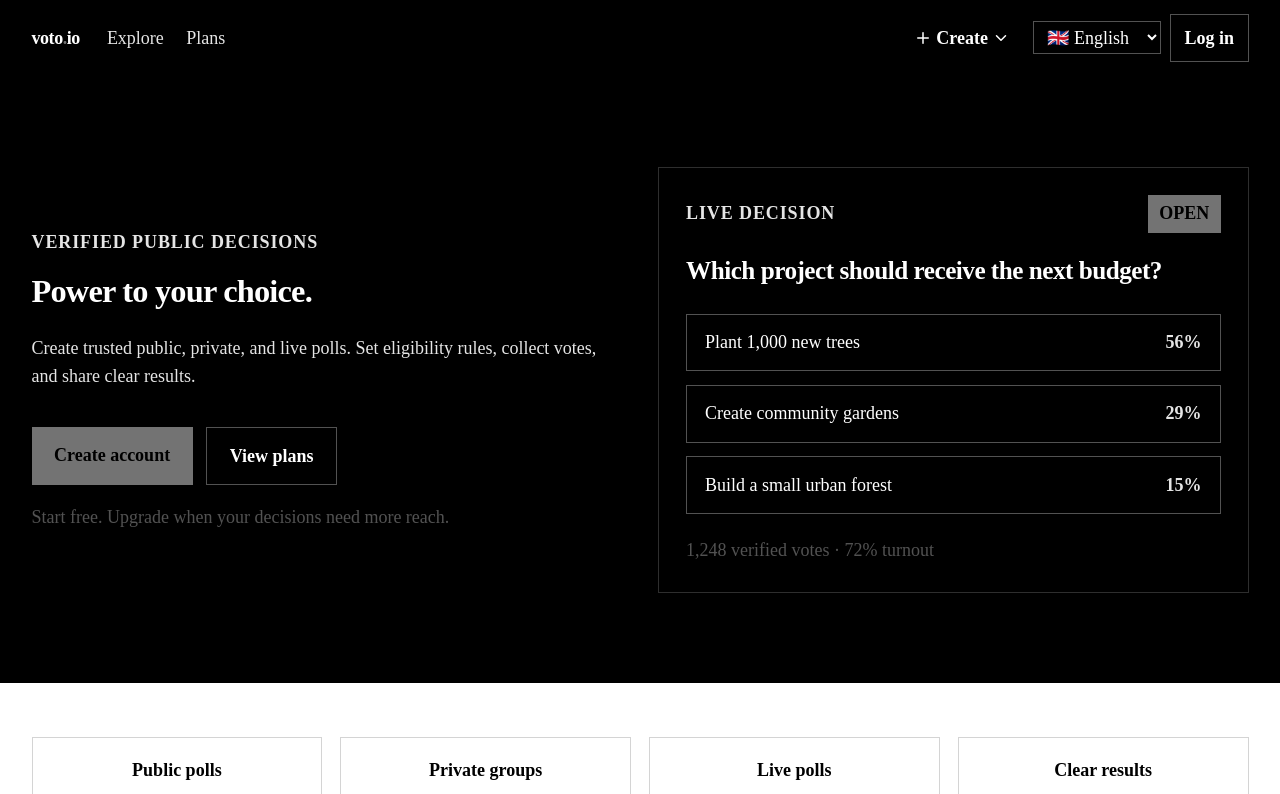
Test: Home › updates the visible text when the language changes
Select "🇮🇹 Italiano" in the dropdown named "Language" at (1097, 38), box x1=1033 y1=21 x2=1161 y2=54
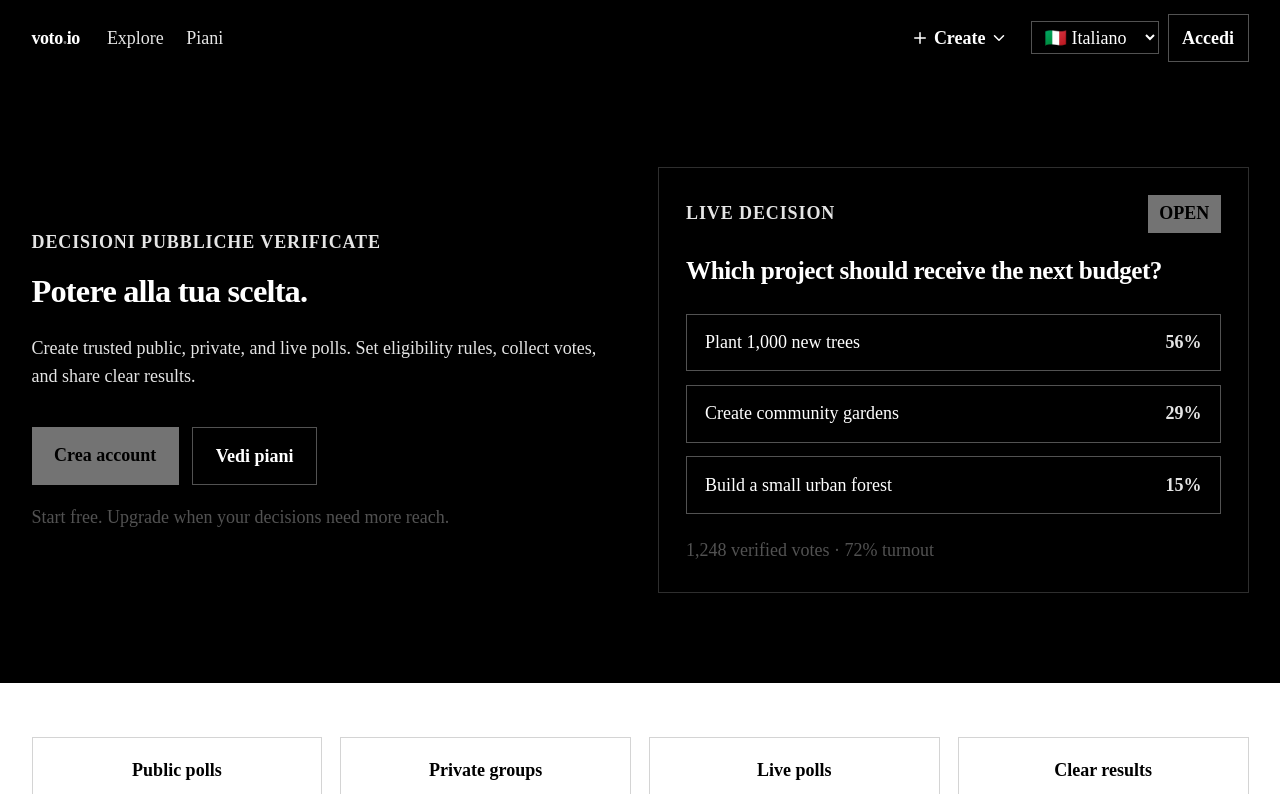
Expected: the heading "Potere alla tua scelta." is shown, x1=32 y1=273 x2=307 y2=309
